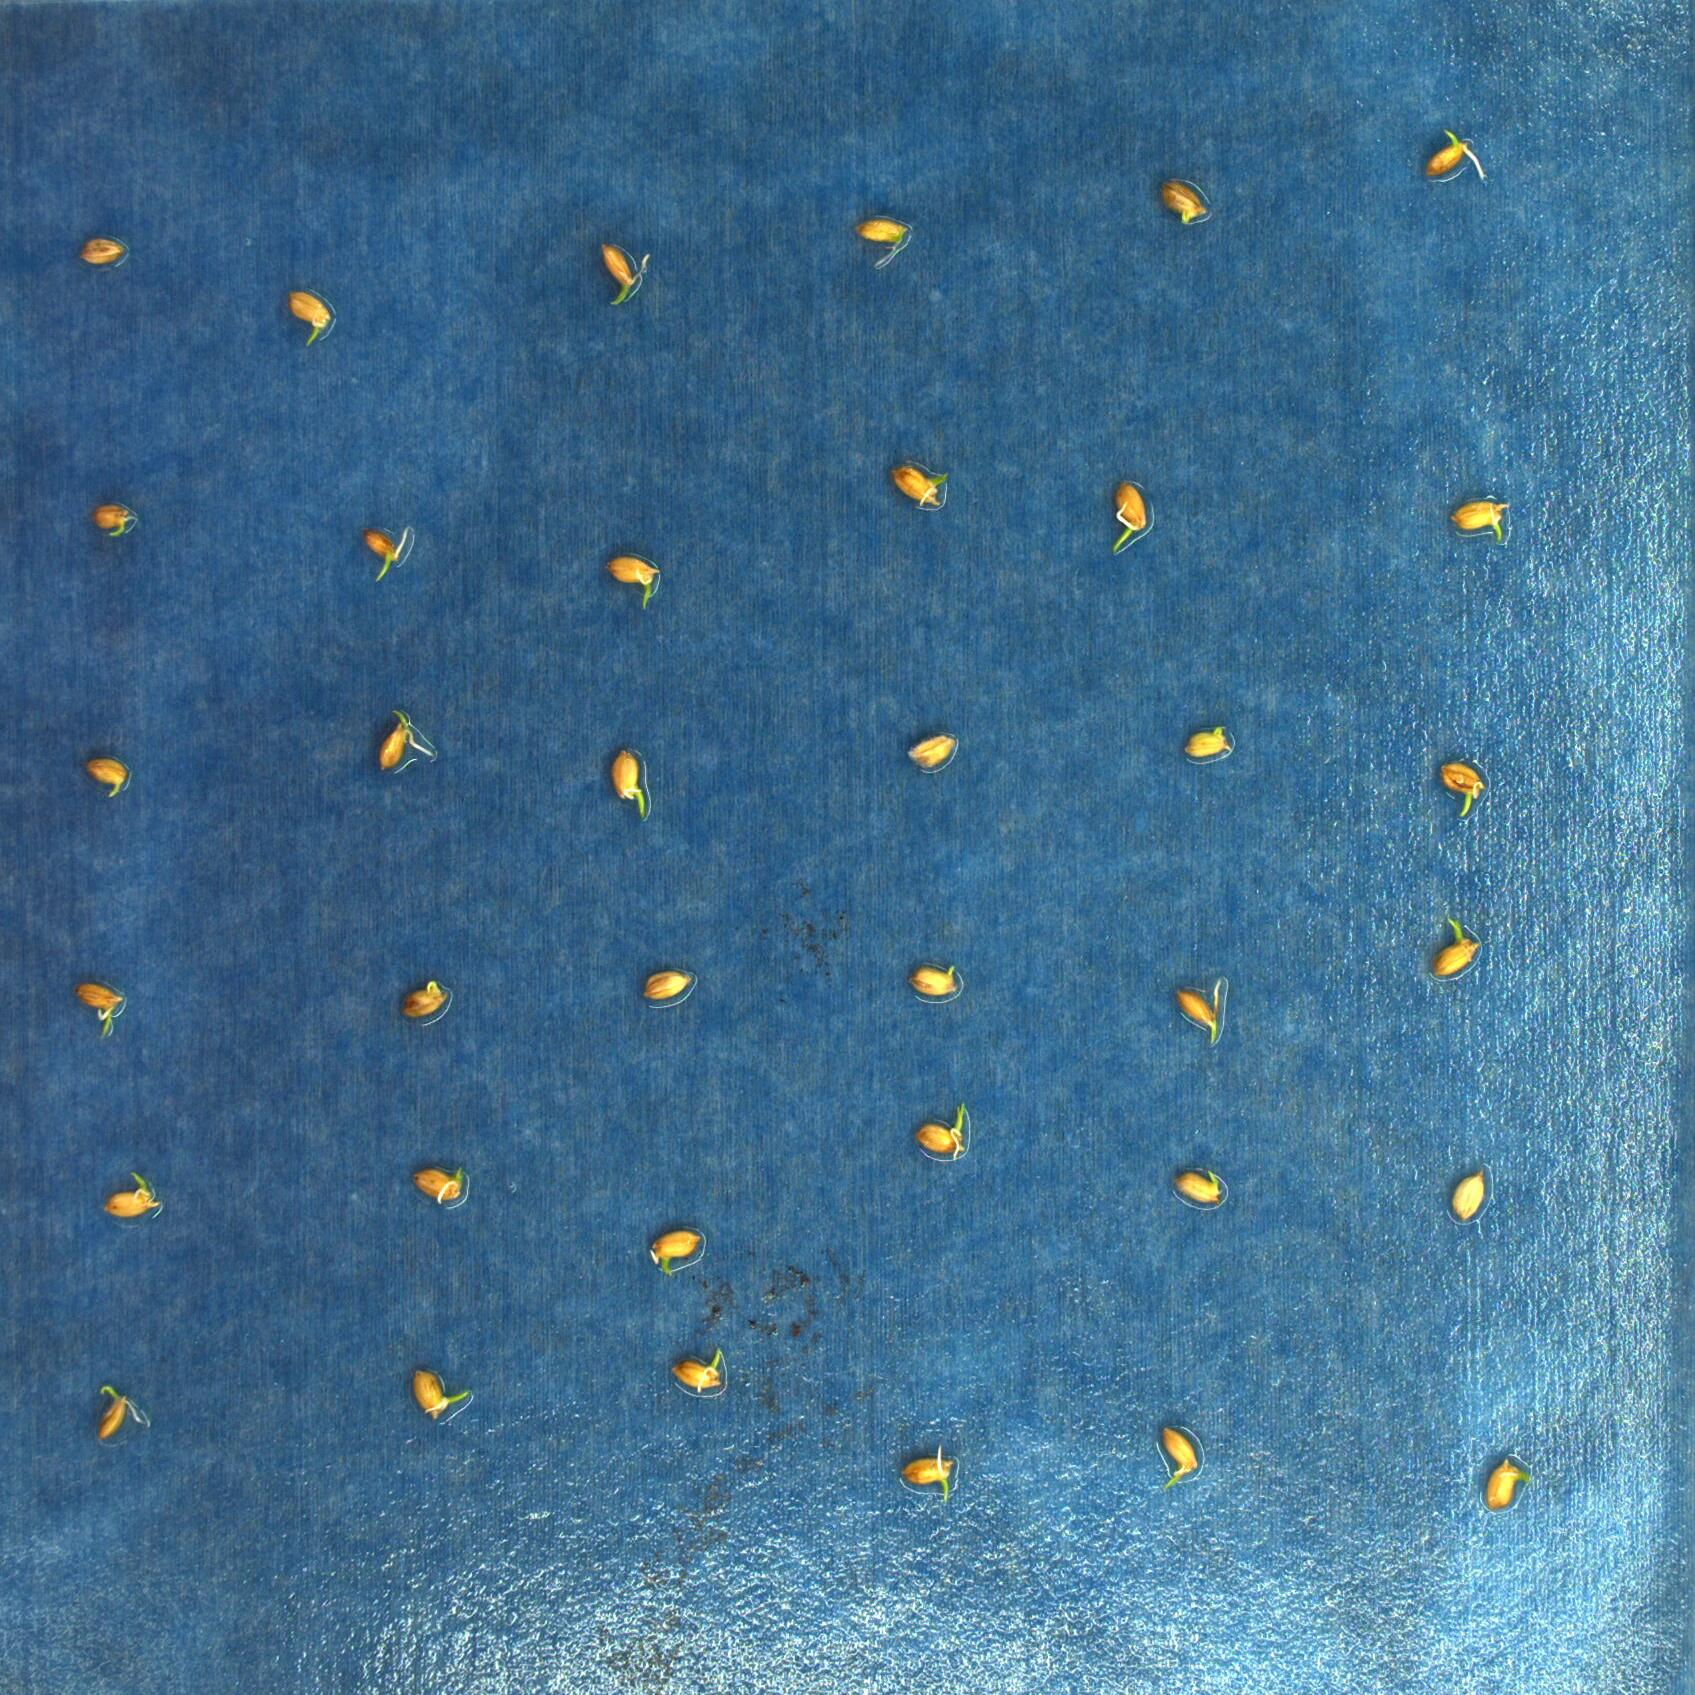not sprout: (1419, 126, 1489, 188), (1175, 973, 1226, 1046), (379, 705, 435, 770), (846, 214, 906, 272), (886, 461, 950, 515), (1482, 1451, 1538, 1512), (93, 1385, 151, 1440), (646, 1226, 706, 1277), (405, 1161, 470, 1208), (282, 289, 334, 348), (1450, 494, 1513, 539), (671, 1344, 726, 1395), (1155, 182, 1211, 225), (1444, 1167, 1490, 1218), (1167, 1166, 1226, 1205), (394, 983, 452, 1021), (903, 728, 955, 771), (78, 231, 130, 272), (638, 967, 694, 1004), (1173, 726, 1236, 759), (905, 962, 959, 1000), (81, 754, 124, 799)
sprout: (1146, 1426, 1205, 1501), (407, 1366, 472, 1423), (598, 241, 650, 310), (601, 553, 660, 613), (73, 979, 130, 1042), (96, 1172, 165, 1223), (1426, 914, 1479, 979), (1107, 478, 1153, 551), (899, 1445, 955, 1506), (913, 1105, 969, 1159), (612, 747, 650, 820), (363, 520, 408, 581), (1440, 757, 1482, 818), (90, 504, 135, 539)
